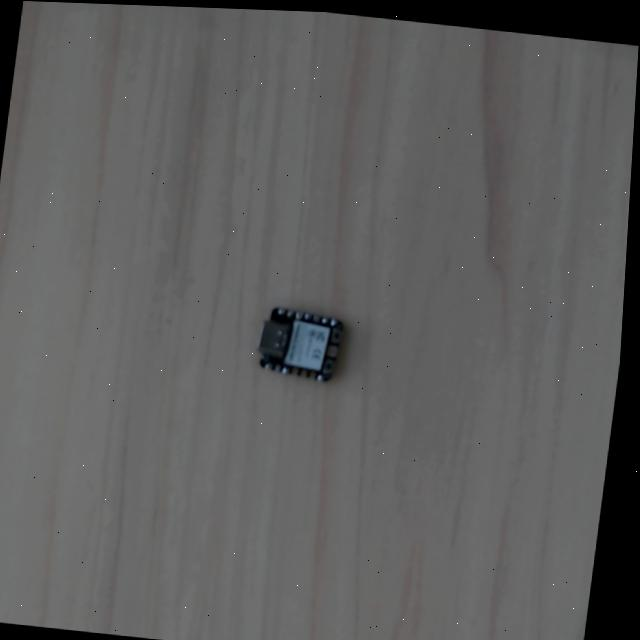ESP32C3-Xiao: (253, 305, 348, 384)
